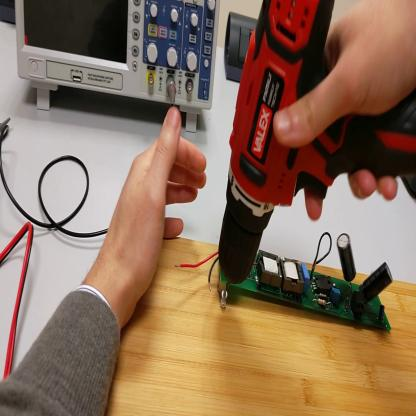electric screwdriver: (218, 2, 416, 288)
hand: (267, 6, 412, 216), (103, 104, 206, 313)
high voltage board: (174, 228, 399, 336)
oscilloscope: (15, 1, 218, 133)
oscilloscope probe tip: (1, 112, 12, 144)
socket: (1, 2, 16, 26)
working area: (108, 235, 416, 415)
